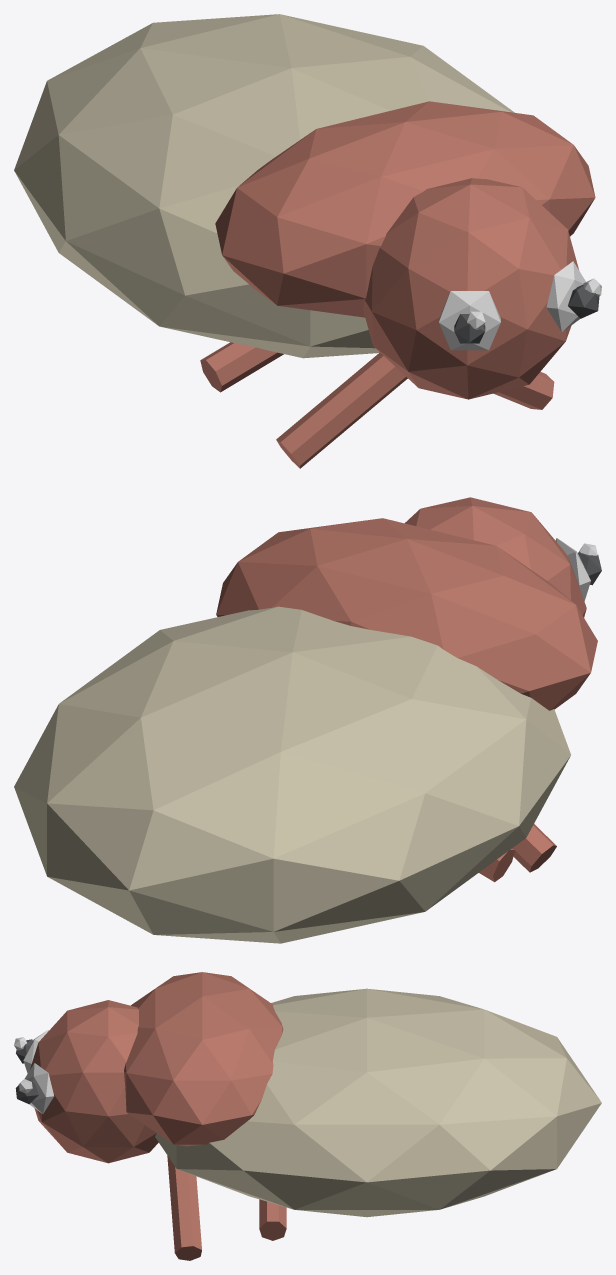
File: peregrinus-maidis.glb
3 views of the same model, one above another, from view 1: azimuth 30°, elevation 25°; view 2: azimuth 150°, elevation 25°; view 3: azimuth 270°, elevation 25° (orthographic). The views are drawn at different scales.
Visible parts, largest first — view 1: body, pronotum, head, leg0-l, f-eye-r, leg1-l, f-eye-l, leg0-r, f-pupil-l, f-pupil-r; view 2: body, pronotum, head, leg0-l, f-eye-r; view 3: body, pronotum, head, leg0-r, leg1-r, f-eye-l.
Boxes of the visible parts, <box> form: body: <box>14,14,514,358</box>; pronotum: <box>215,101,595,317</box>; head: <box>363,178,579,399</box>; leg0-l: <box>276,352,407,468</box>; f-eye-r: <box>439,291,500,350</box>; leg1-l: <box>200,342,283,392</box>; f-eye-l: <box>546,261,585,332</box>; leg0-r: <box>493,372,554,409</box>; f-pupil-l: <box>568,284,599,318</box>; f-pupil-r: <box>454,314,485,343</box>; body: <box>14,606,570,943</box>; pronotum: <box>216,518,597,710</box>; head: <box>405,497,586,617</box>; leg0-l: <box>512,824,556,872</box>; f-eye-r: <box>555,538,590,601</box>; body: <box>155,988,601,1217</box>; pronotum: <box>124,972,283,1146</box>; head: <box>30,1000,158,1163</box>; leg0-r: <box>167,1155,201,1260</box>; leg1-r: <box>259,1199,286,1240</box>; f-eye-l: <box>24,1063,53,1113</box>.
Size of the model in its own units: 0.32 by 0.2096 by 0.5004.
